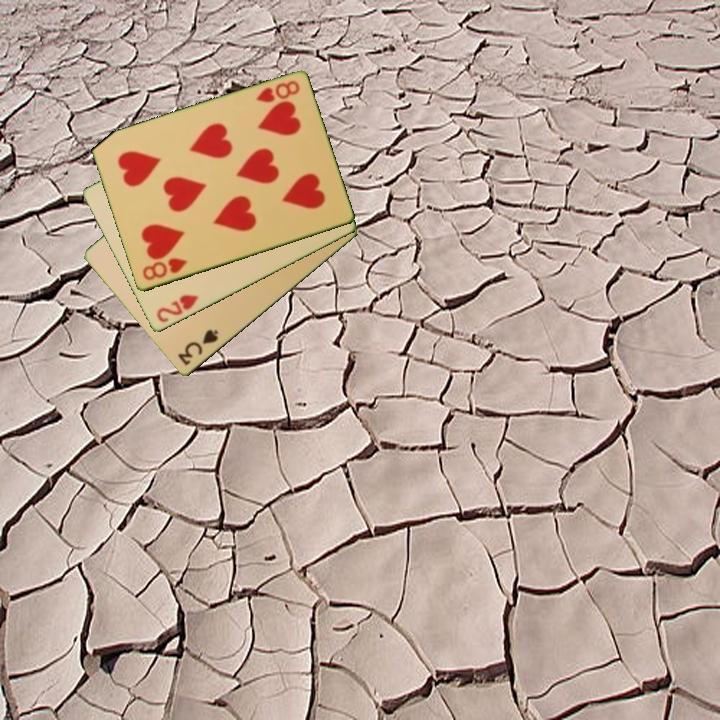2h: (153, 291, 201, 326)
3s: (174, 326, 221, 369)
8h: (139, 255, 190, 284), (252, 77, 303, 106)
